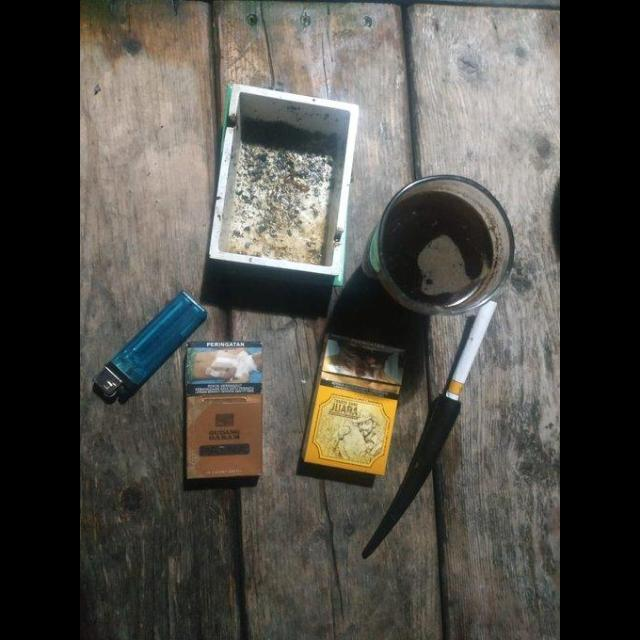rokok: (440, 292, 502, 408)
